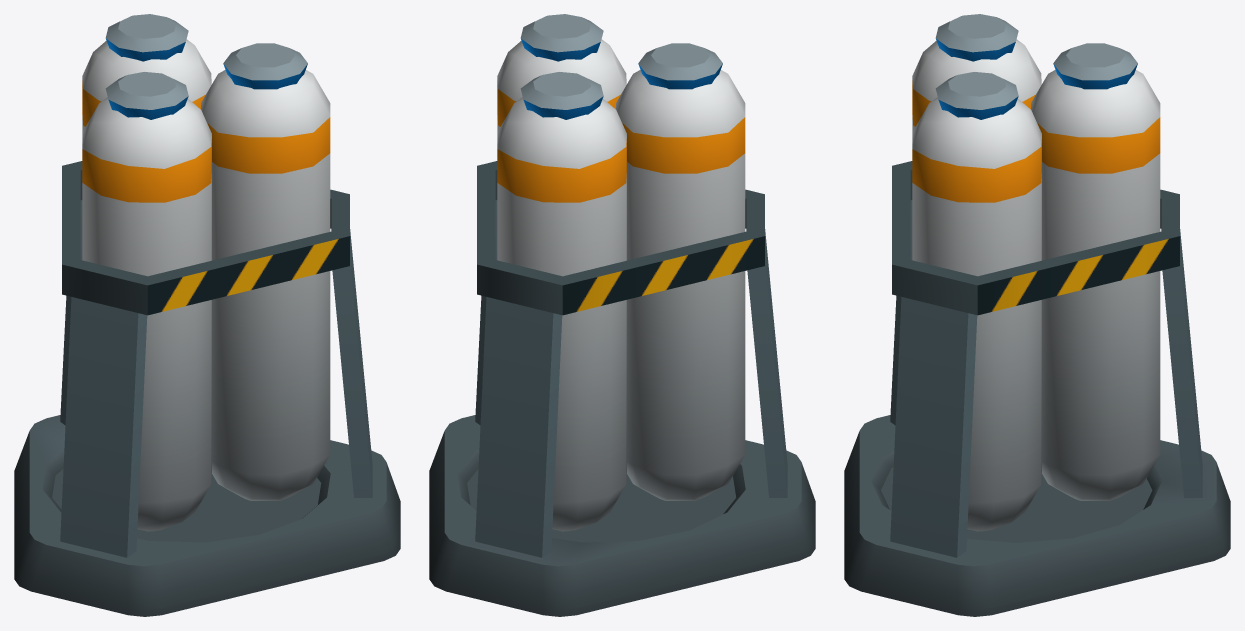
The model's file is Baloon_002.fbx.
The picture shows the model from 3 angles, left to right: view 1: azimuth 30°, elevation 25°; view 2: azimuth 150°, elevation 25°; view 3: azimuth 270°, elevation 25°; orthographic projection.
Visible parts, largest first — view 1: Baloon_002; view 2: Baloon_002; view 3: Baloon_002.
Boxes of the visible parts, bbox=[...] form: Baloon_002: bbox=[14, 14, 400, 616]; Baloon_002: bbox=[429, 14, 815, 616]; Baloon_002: bbox=[844, 14, 1230, 616].
Bounding box in the file's own units: 102 × 90.92 × 122.
